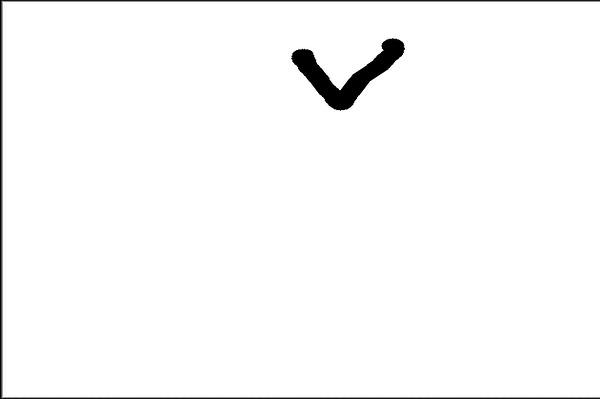V: (288, 31, 406, 114)
